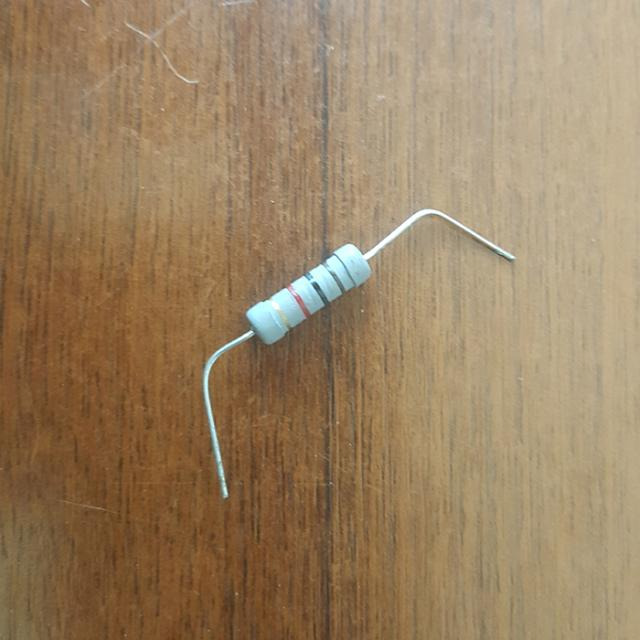black: (306, 272, 328, 304)
brown: (332, 256, 350, 292)
gold: (270, 299, 291, 327)
red: (287, 283, 309, 317)
resistor: (237, 235, 382, 349)
